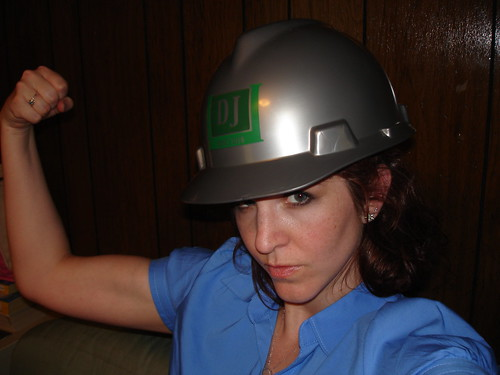person hardhat: (3, 18, 500, 373)
